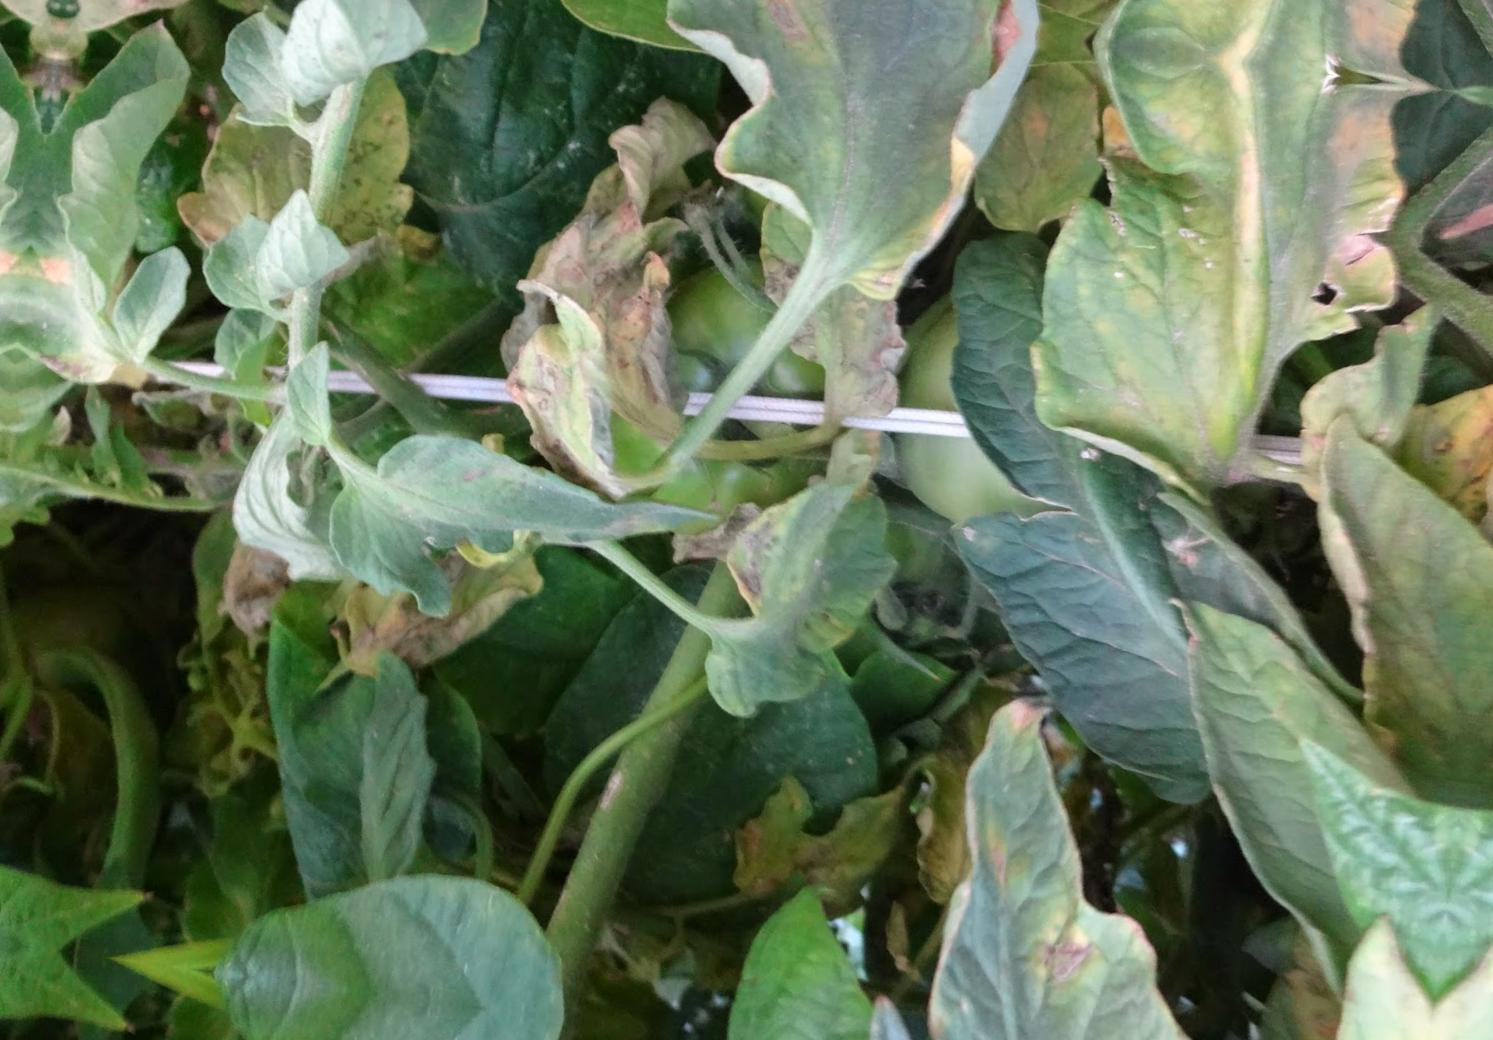Tomato leaf late blight: (869, 665, 1329, 1040), (633, 0, 1030, 365), (302, 422, 725, 665), (10, 0, 233, 422), (678, 429, 919, 748)
